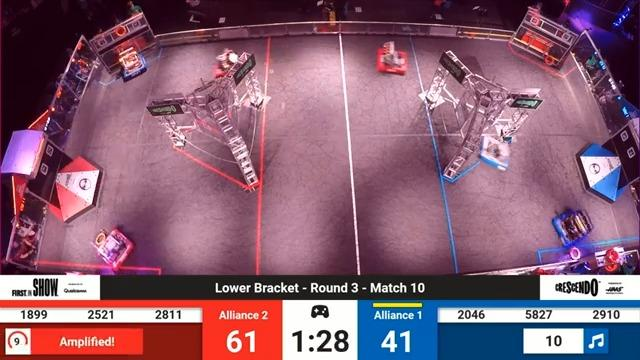robot: (87, 227, 139, 268), (551, 202, 592, 249), (369, 37, 414, 78), (209, 46, 249, 85), (481, 132, 512, 173), (116, 48, 152, 82)
